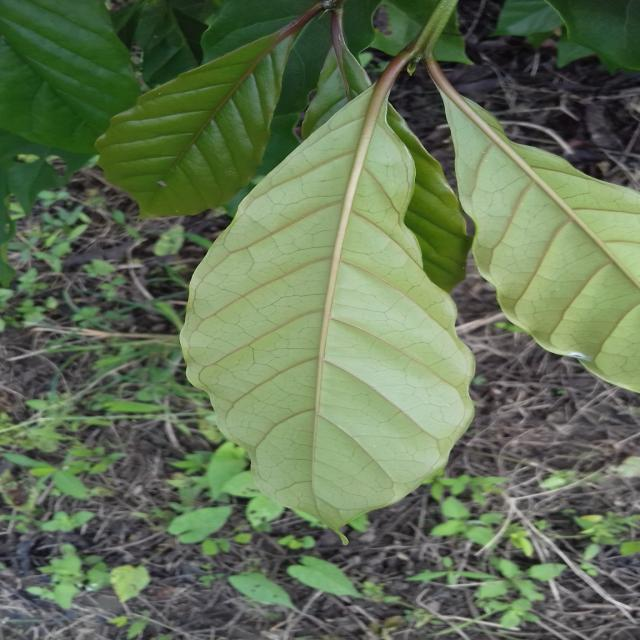Sanas: (179, 54, 477, 527)
